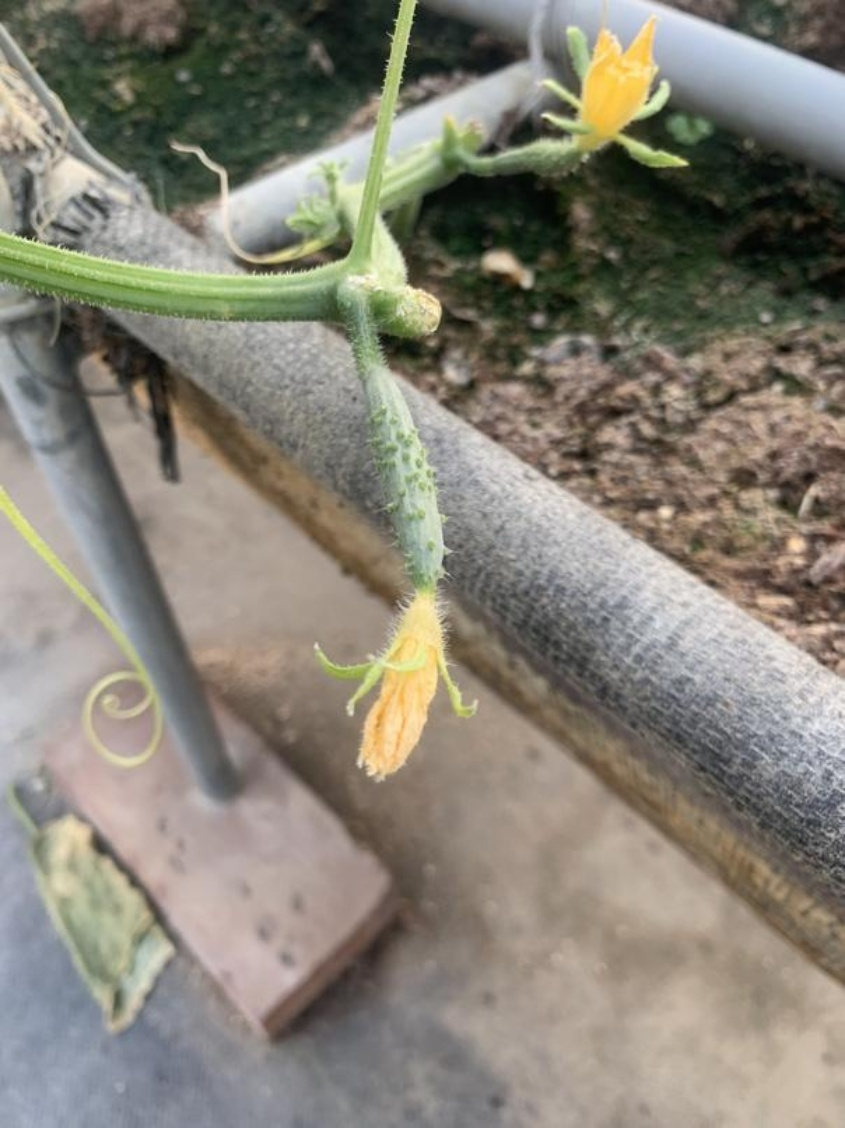bear: (325, 328, 492, 791), (483, 5, 683, 192)
